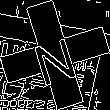N_N: (29, 25, 81, 85)
